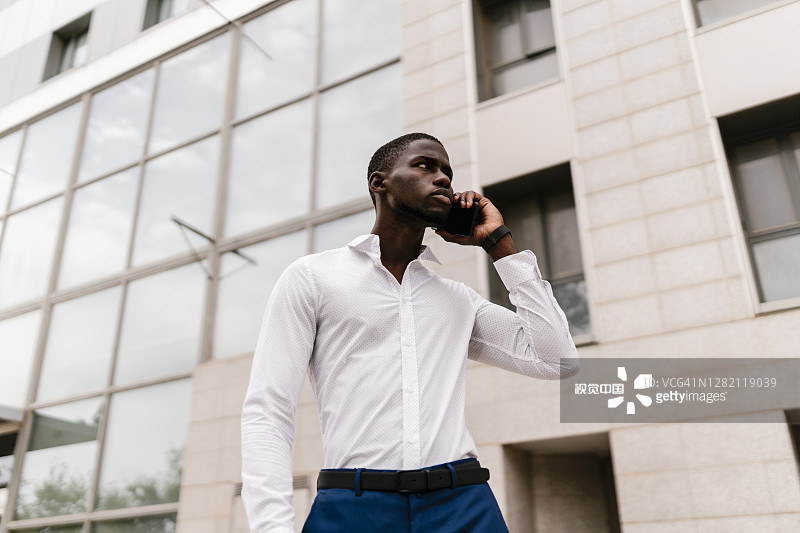calling: (426, 178, 527, 257)
